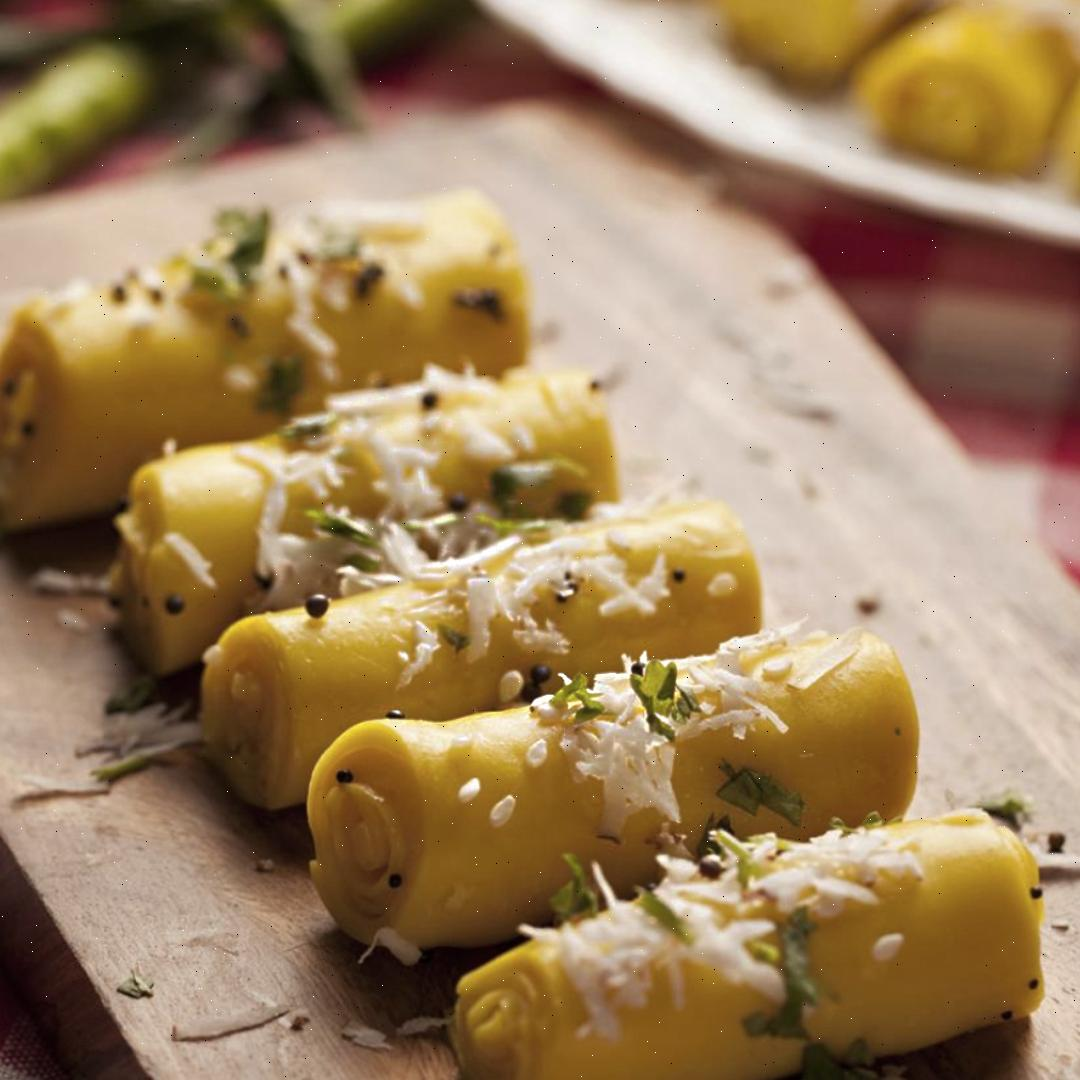khandvi: (0, 237, 1078, 1067)
